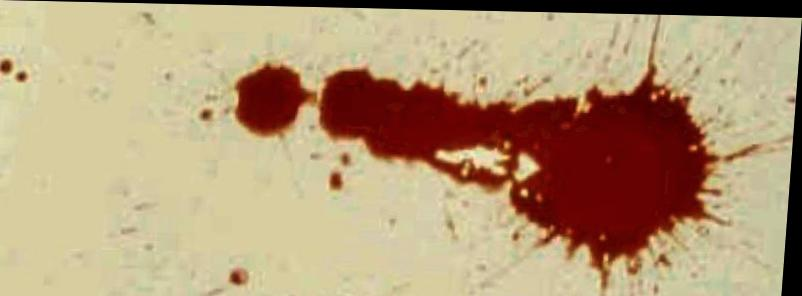Fire: (320, 53, 724, 287), (234, 64, 319, 138)
